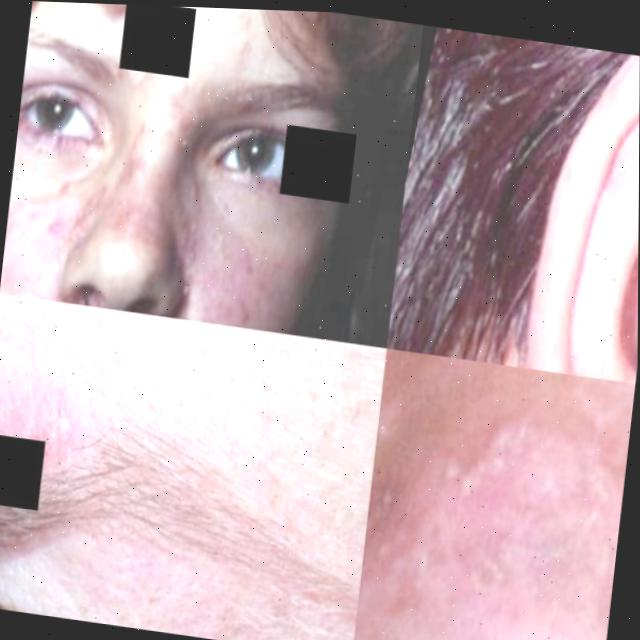lupus-detected: (351, 349, 635, 640), (99, 96, 341, 339), (0, 63, 182, 316), (481, 226, 638, 383), (0, 360, 117, 542)
